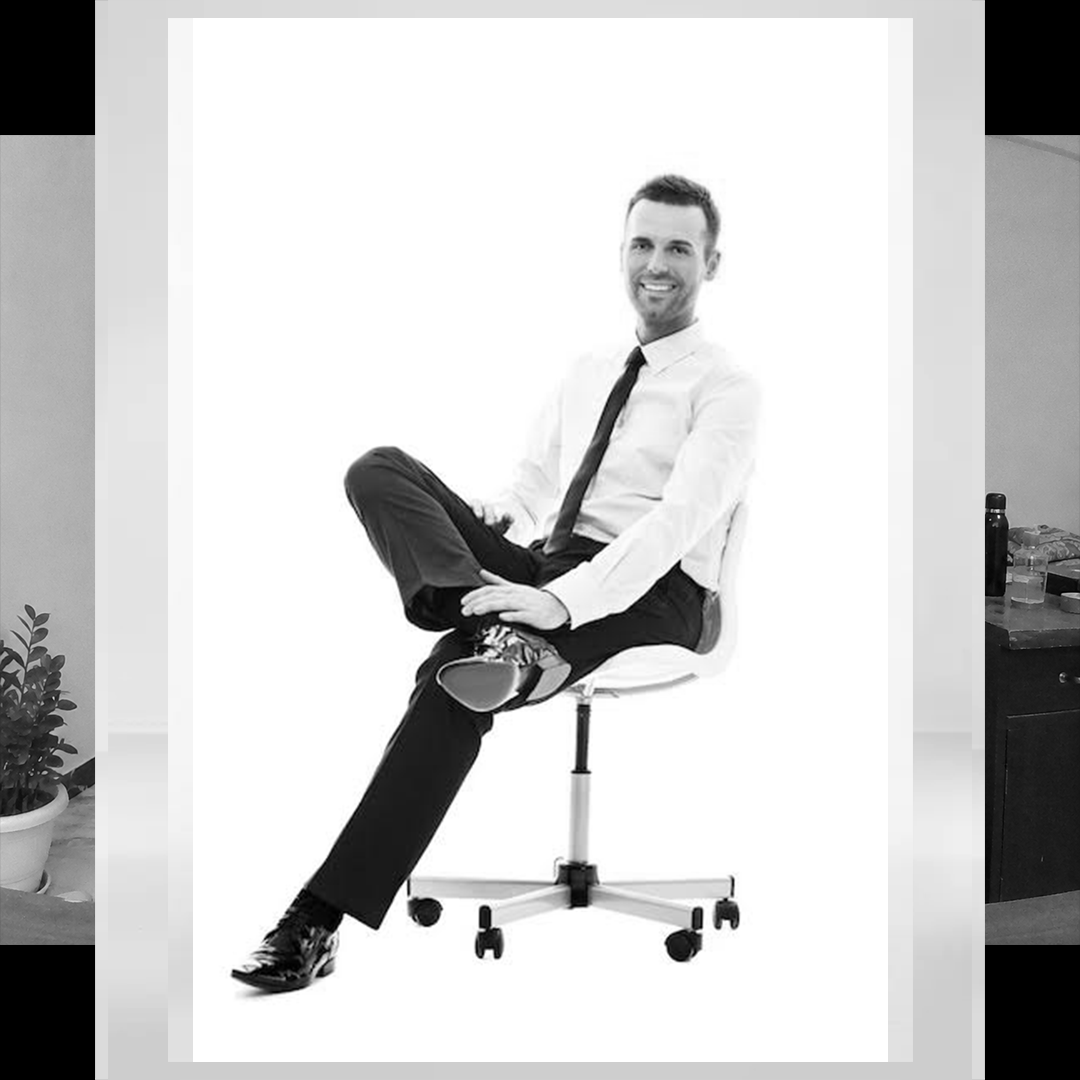Focused: (411, 75, 782, 720)
